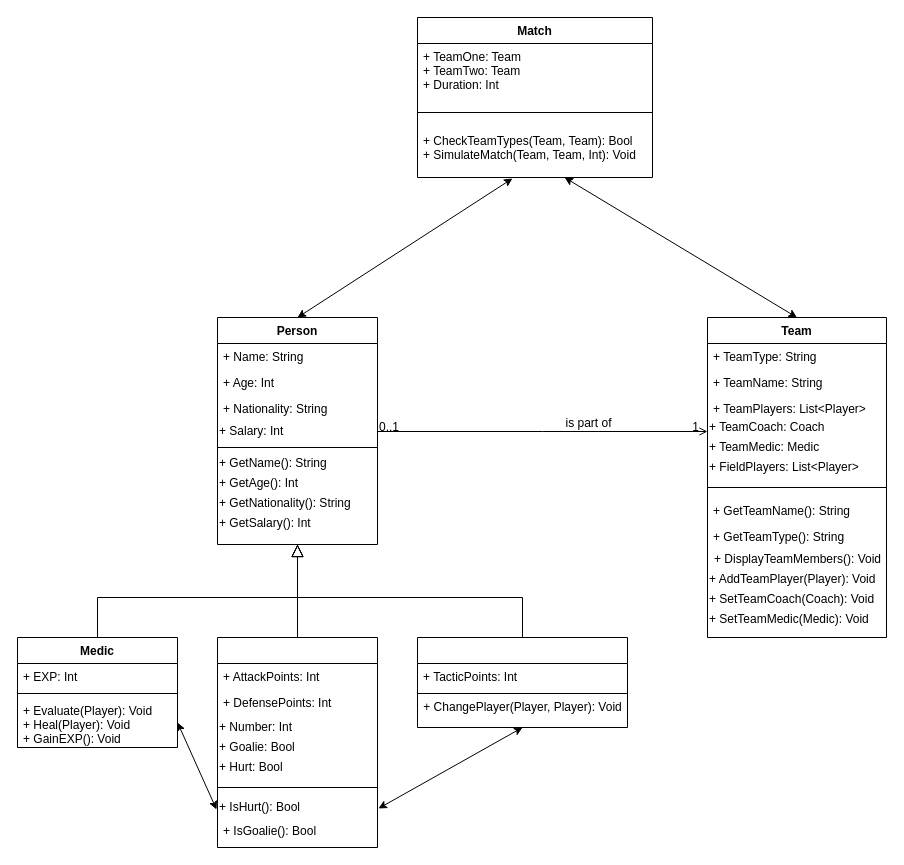
Image size: 904x865. Some labels were removed from this diagram. Each missing label, with the box of its shape:
Coach: (416, 636, 628, 728)
Player: (216, 636, 378, 848)
